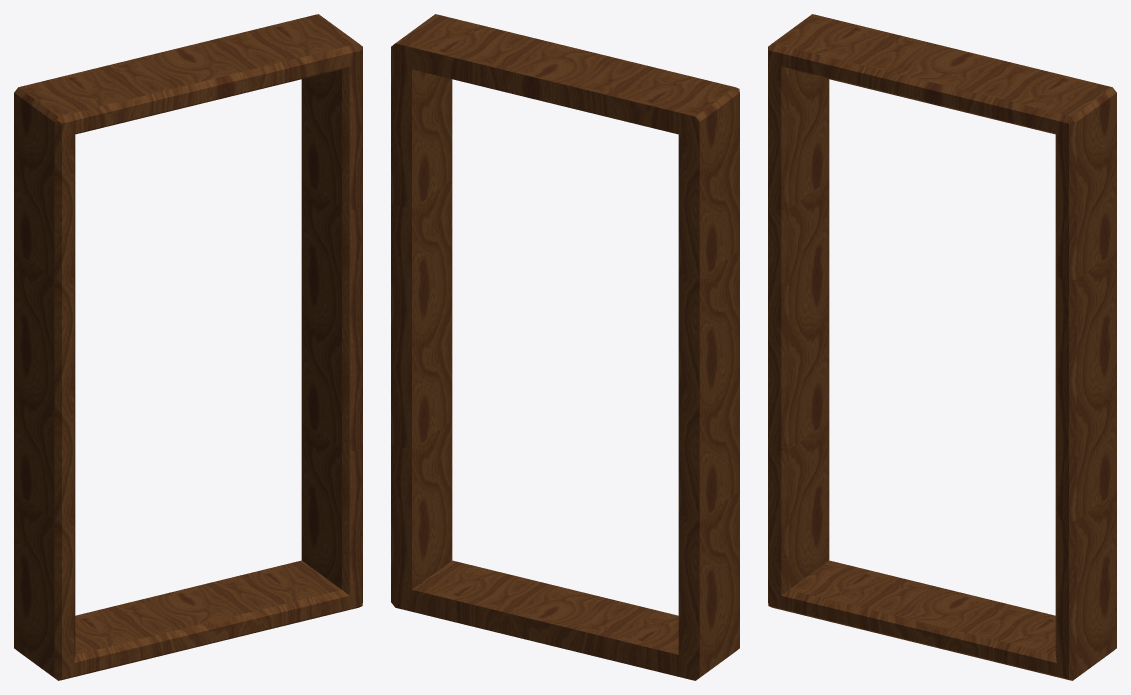
Rendered from Misc_WindowFrame.fbx.
3 renders of one model, left to right at view 1: azimuth 30°, elevation 25°; view 2: azimuth 150°, elevation 25°; view 3: azimuth 330°, elevation 25°, orthographic.
Parts seen in each view (by area): view 1: pCube11; view 2: pCube11; view 3: pCube11.
Part boxes in pixels (x1=…): pCube11: x1=14, y1=14, x2=362, y2=680; pCube11: x1=391, y1=14, x2=739, y2=680; pCube11: x1=768, y1=14, x2=1116, y2=680.
Size of the model in its own units: 2.65 by 4.63 by 0.6478.
